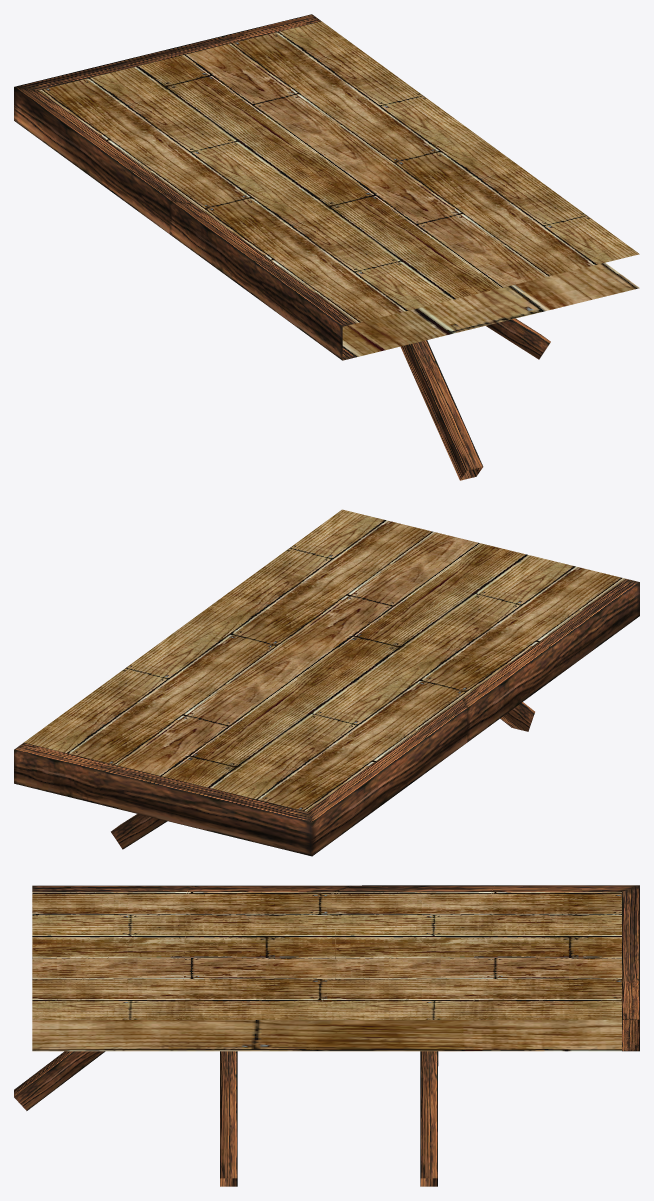
Rendered from LAKETOWN_WAREHOUSE2_PS_WH2_PLAT535342__GX.fbx.
3 renders of one model, top to bottom at view 1: azimuth 30°, elevation 25°; view 2: azimuth 150°, elevation 25°; view 3: azimuth 270°, elevation 25°, orthographic. The views are drawn at different scales.
Parts seen in each view (by area): view 1: LAKETOWN_WAREHOUSE2_PS_WH2_PLAT535342__GX; view 2: LAKETOWN_WAREHOUSE2_PS_WH2_PLAT535342__GX; view 3: LAKETOWN_WAREHOUSE2_PS_WH2_PLAT535342__GX.
Boxes of the visible parts, <box> form: LAKETOWN_WAREHOUSE2_PS_WH2_PLAT535342__GX: <box>14,14,639,480</box>; LAKETOWN_WAREHOUSE2_PS_WH2_PLAT535342__GX: <box>14,509,639,856</box>; LAKETOWN_WAREHOUSE2_PS_WH2_PLAT535342__GX: <box>14,885,639,1186</box>.
Bounding box in the file's own units: 32827 × 18167 × 61903.
Materials: 2 (2 with a texture image).
